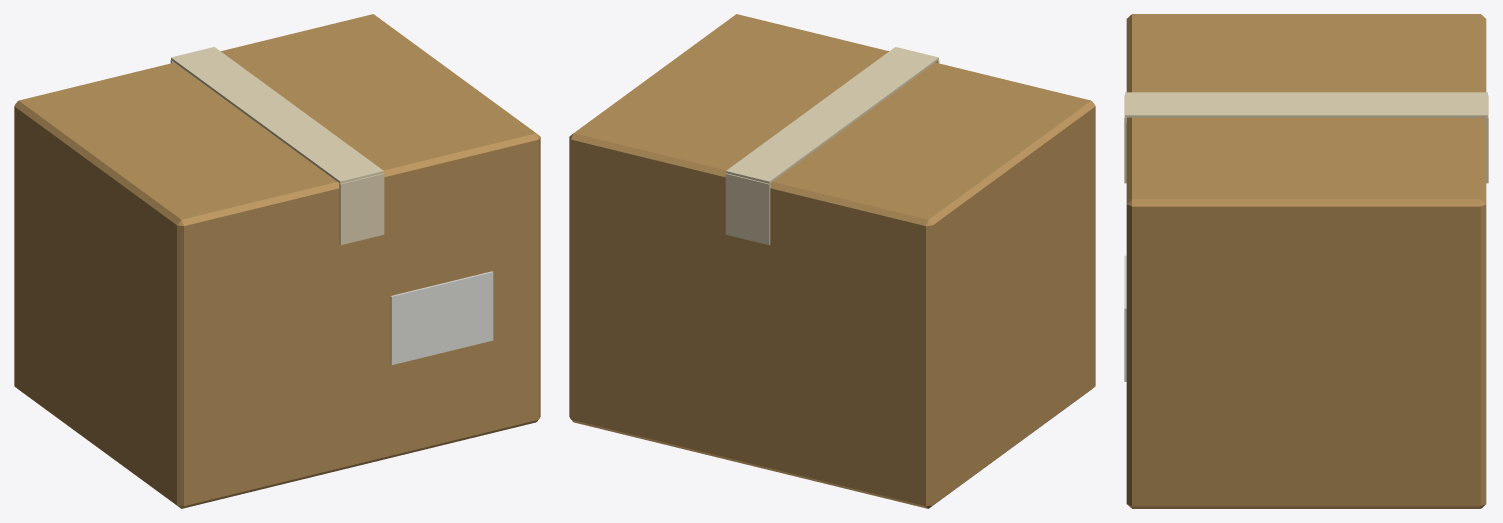
File: Cardboard_Box.fbx
3 views of the same model, side by side, from view 1: azimuth 30°, elevation 25°; view 2: azimuth 150°, elevation 25°; view 3: azimuth 270°, elevation 25° (orthographic). The views are drawn at different scales.
Visible parts, largest first — view 1: Cardboard_Box; view 2: Cardboard_Box; view 3: Cardboard_Box.
Part boxes in pixels (x1,y1,x2,y2): Cardboard_Box: (14, 14, 540, 508); Cardboard_Box: (569, 14, 1095, 508); Cardboard_Box: (1124, 14, 1488, 508).
Size of the model in its own units: 0.5 by 0.3835 by 0.405.
1 material, 1 textured.
